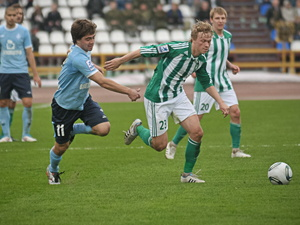ball: (268, 162, 293, 185)
ignore: (13, 6, 24, 24)
player: (103, 22, 230, 184), (46, 18, 141, 185), (164, 7, 252, 160), (0, 4, 42, 143)
